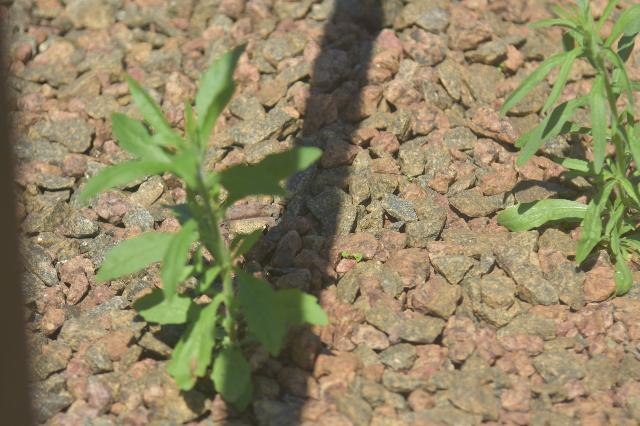MalezaMontesDelPlata: (79, 39, 327, 416), (503, 0, 640, 299)
